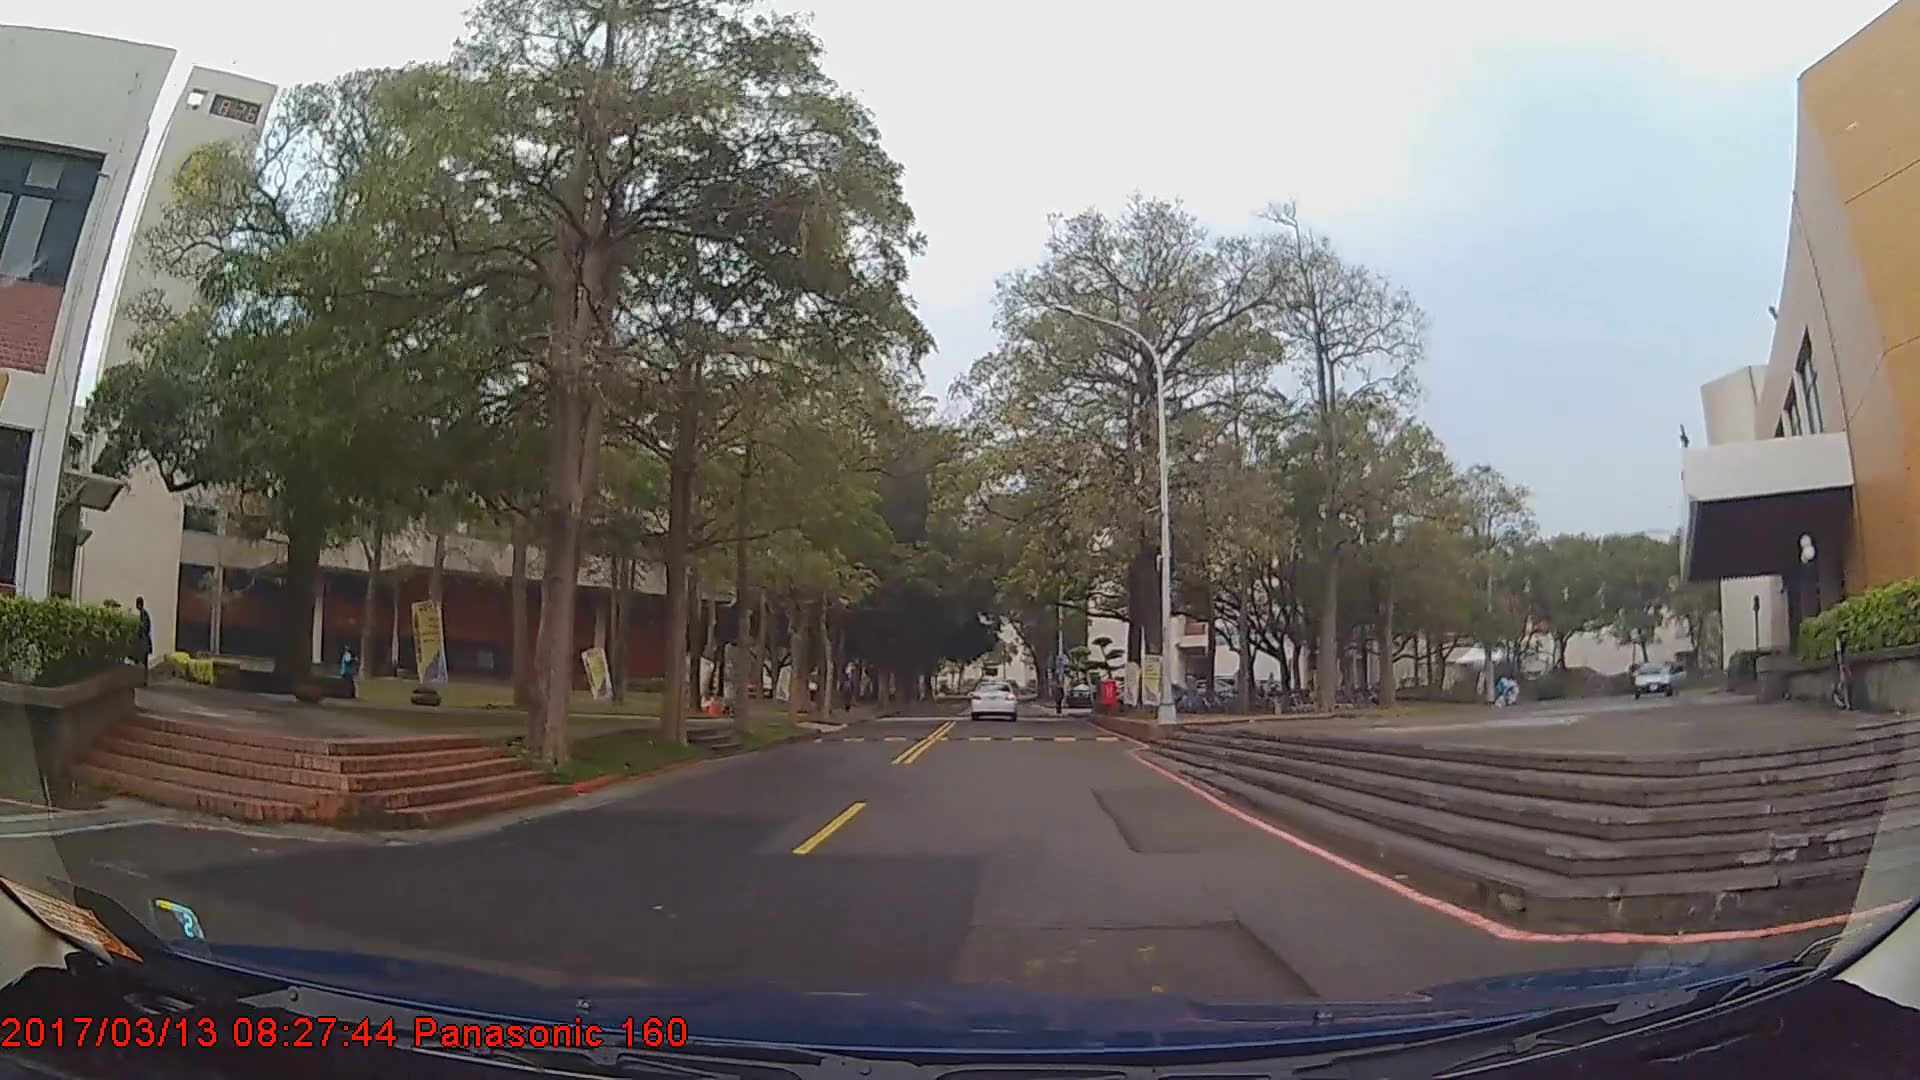vehicle: (1625, 658, 1693, 700), (971, 676, 1019, 719)
